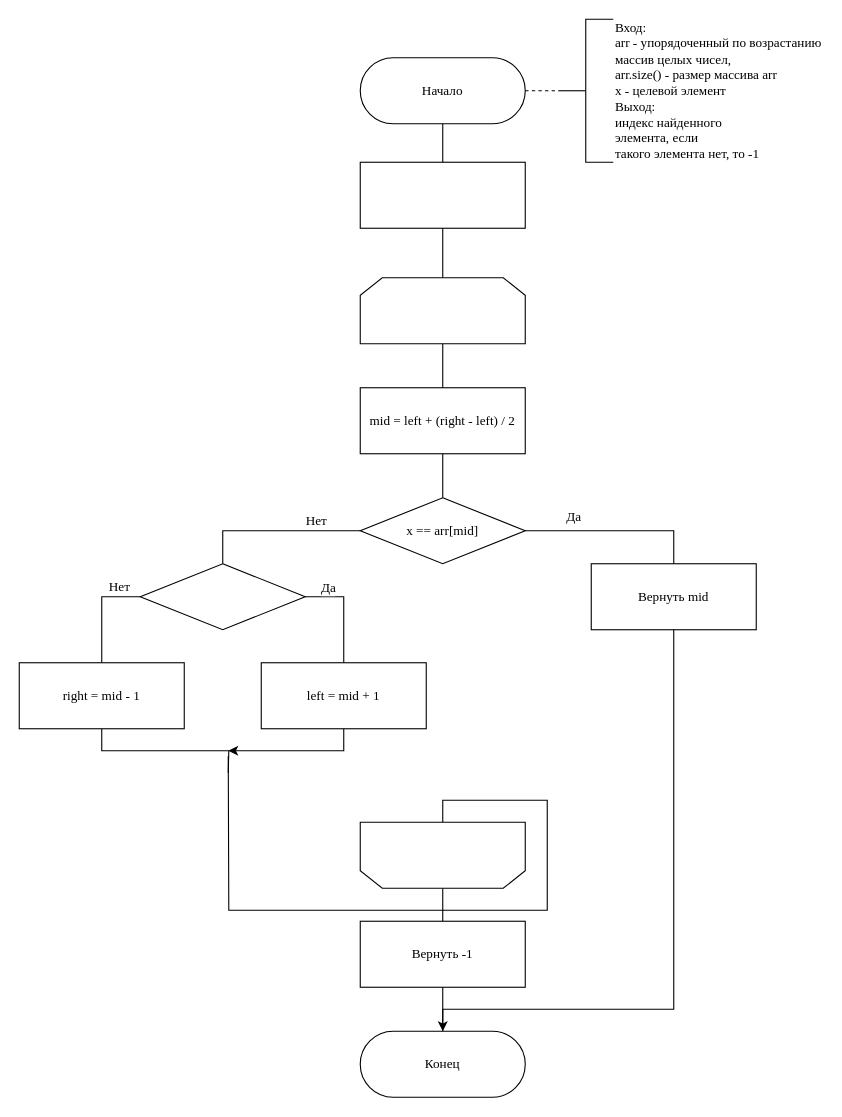
Image size: 842x1117. Some labels were removed from this diagram. The box of each missing label's shape, as (x1, y1, x2, y2) in pixels:
arr[mid] < x: (139, 563, 305, 630)
left = 0, right = arr.size() - 1, res = -1: (359, 161, 525, 228)
Конец пока: (359, 821, 525, 888)
Пока left <= right, res == -1: (359, 277, 525, 344)
